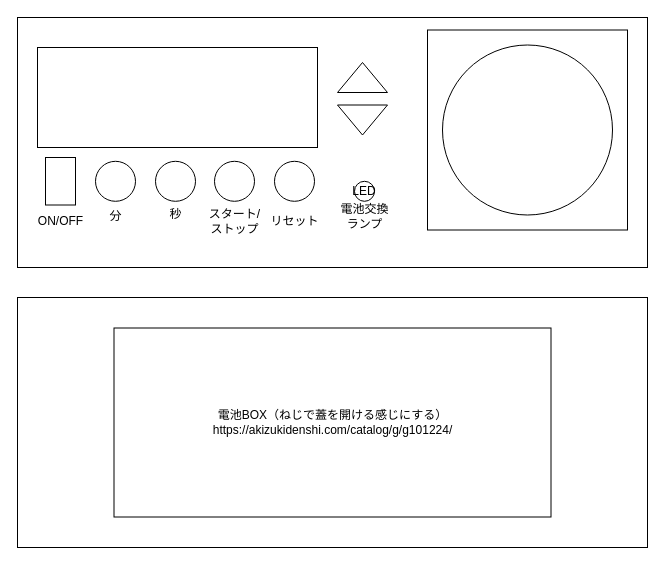
Image size: 665x565. Some labels were removed from this diagram. The box of each missing label's shape, as (x1, y1, x2, y2) in pixels:
ジカン1 〇〇：〇〇 ジカン2 〇〇 ： 〇〇 ジカン3 〇〇 ： 〇〇 タイマージカン 〇〇 ： 〇〇. 〇〇: (36, 46, 318, 148)
卓上ベル 大きさ未定: (442, 44, 612, 215)
